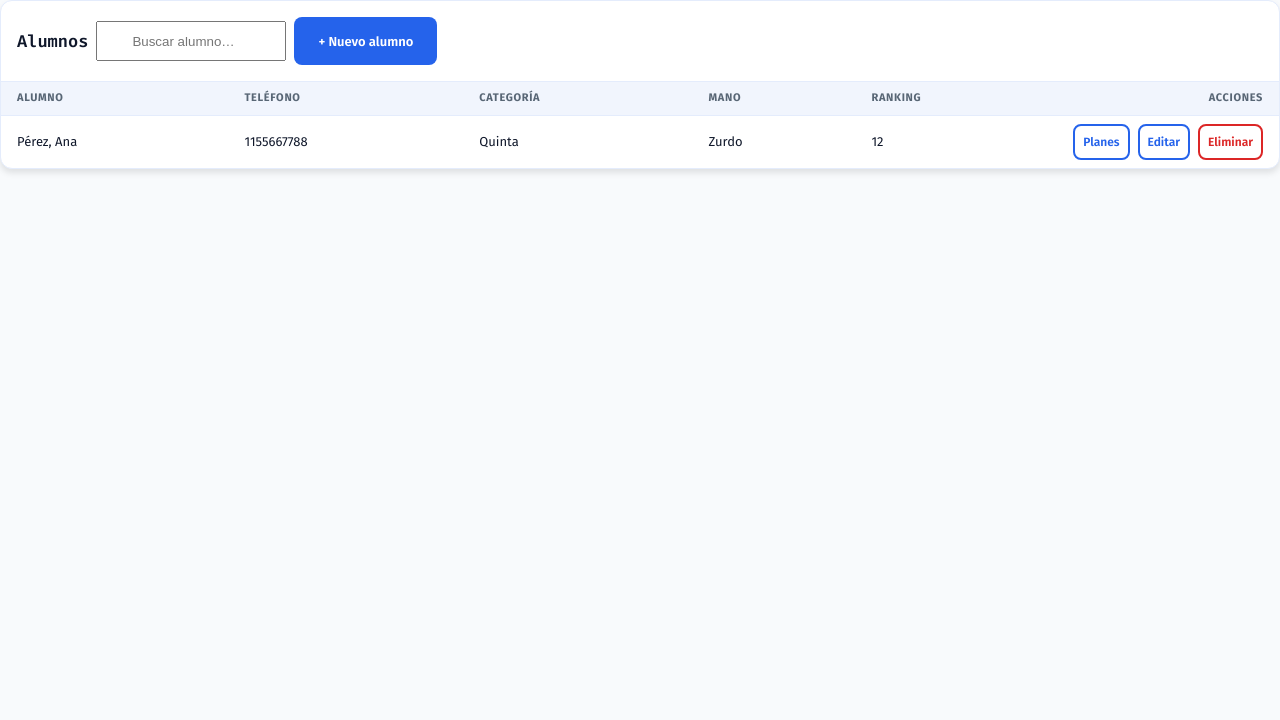
it: AlumnosPageComponent › el botón Planes abre el modal con los planes DE ESE alumno
This screenshot has width=1280, height=720.
Click the button "Planes": (1101, 142) [1073, 124, 1130, 160]
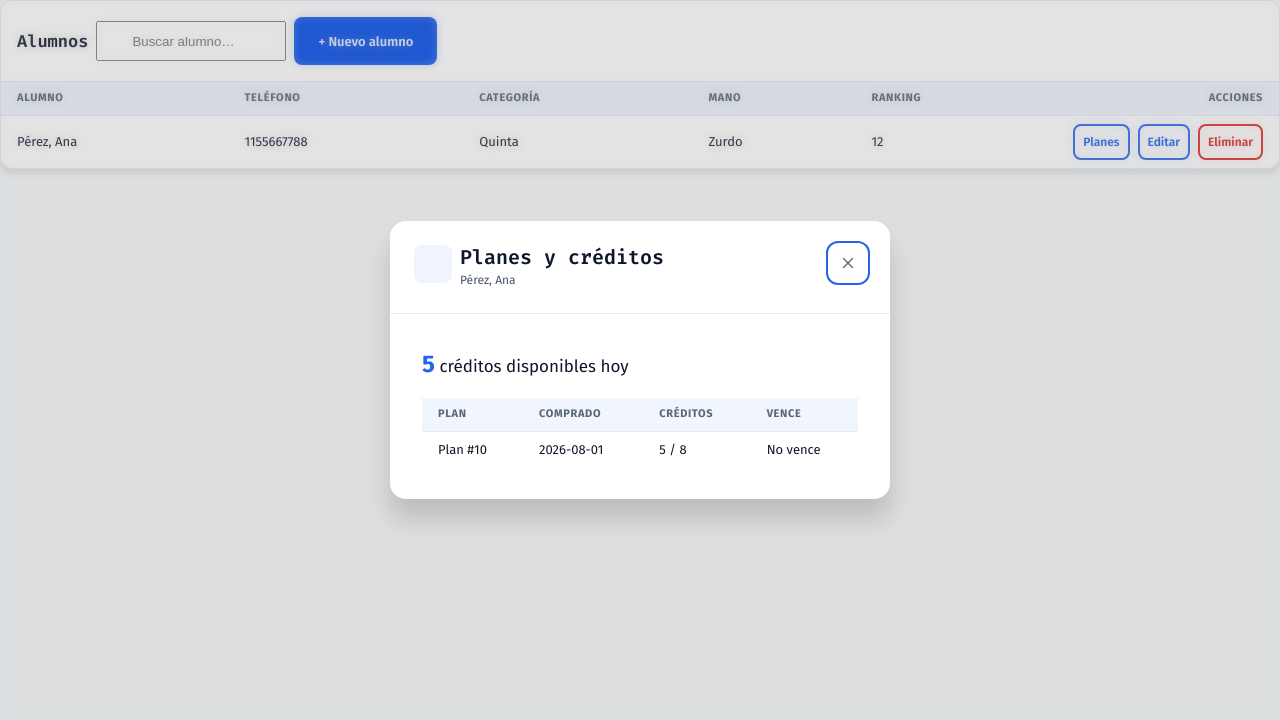
Result: the element with test id "creditos-totales" shows "5" at [422, 350, 435, 378]
